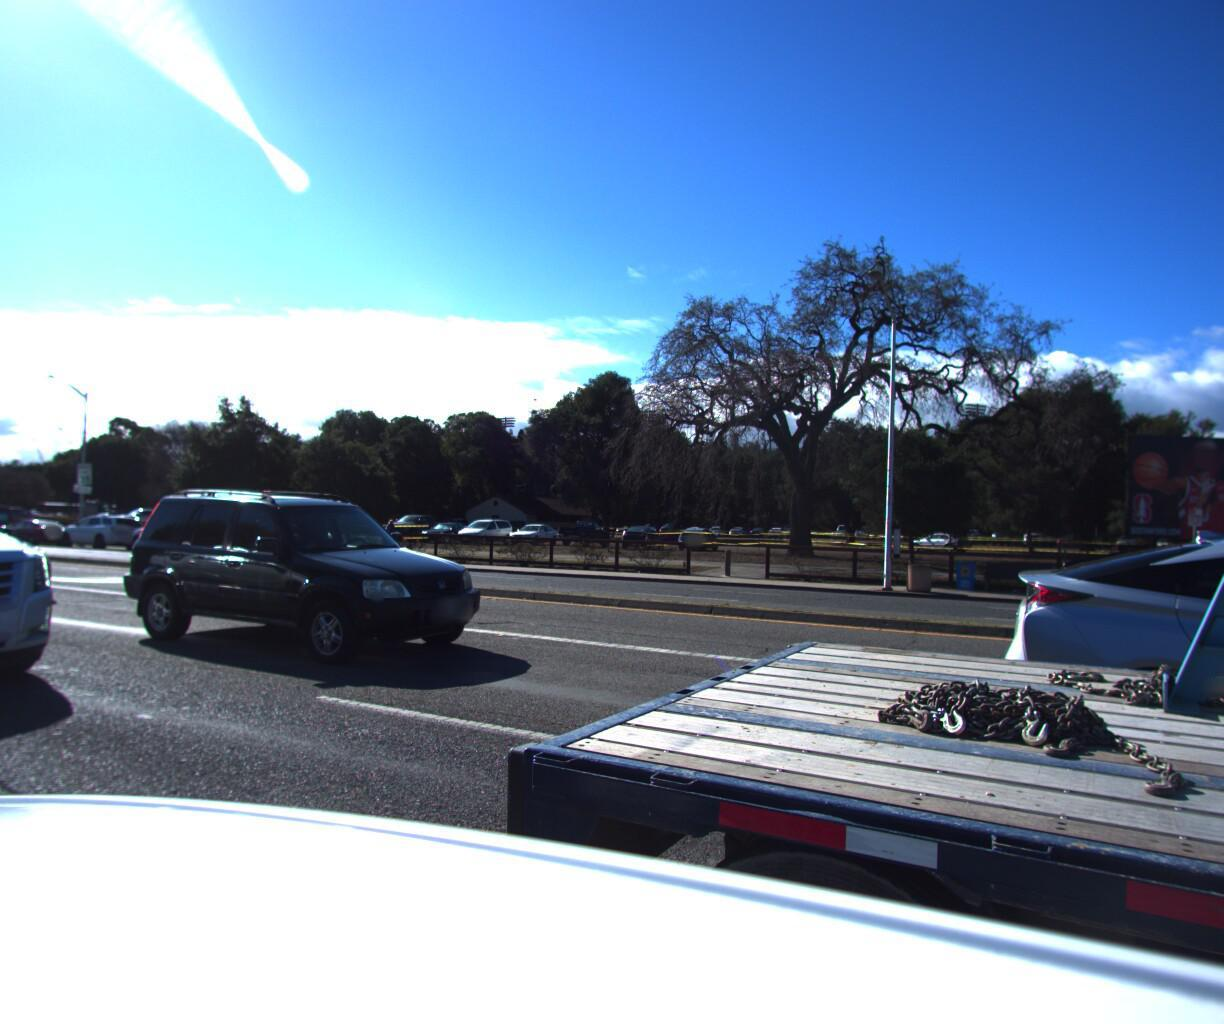car: (1007, 519, 1224, 951), (101, 484, 504, 681), (0, 432, 80, 744), (125, 508, 241, 555), (55, 508, 152, 547), (0, 513, 77, 544), (0, 496, 22, 540)
